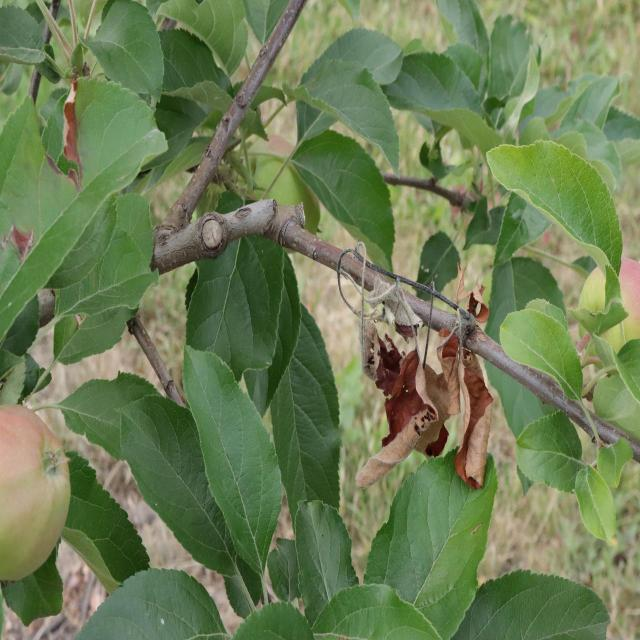-FireBlight-: (340, 281, 504, 496)
